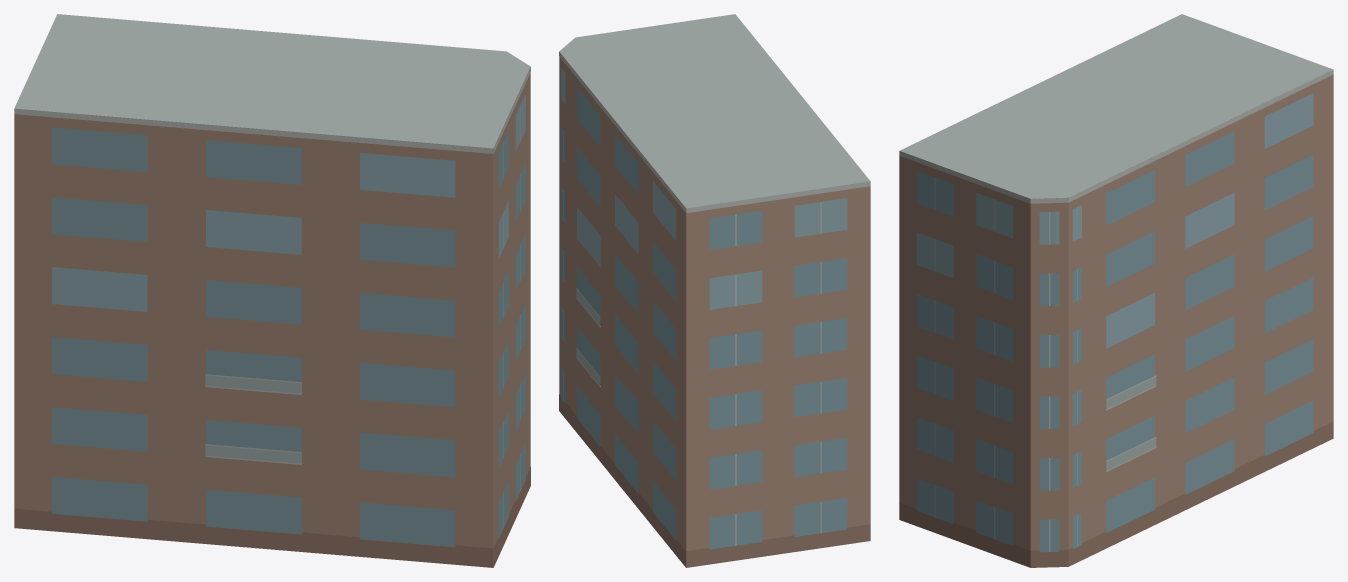
The model's file is survey-upis-32612553.glb.
3 views of the same model, side by side, from view 1: azimuth 30°, elevation 25°; view 2: azimuth 150°, elevation 25°; view 3: azimuth 270°, elevation 25° (orthographic). The views are drawn at different scales.
Parts seen in each view (by area): view 1: survey-upis-32612553.tmp; view 2: survey-upis-32612553.tmp; view 3: survey-upis-32612553.tmp.
Boxes of the visible parts, x1,y1,x2,y2 form: survey-upis-32612553.tmp: (14, 14, 530, 567); survey-upis-32612553.tmp: (559, 14, 870, 567); survey-upis-32612553.tmp: (899, 14, 1333, 567).
Size of the model in its own units: 19.67 by 18.3 by 19.52.
